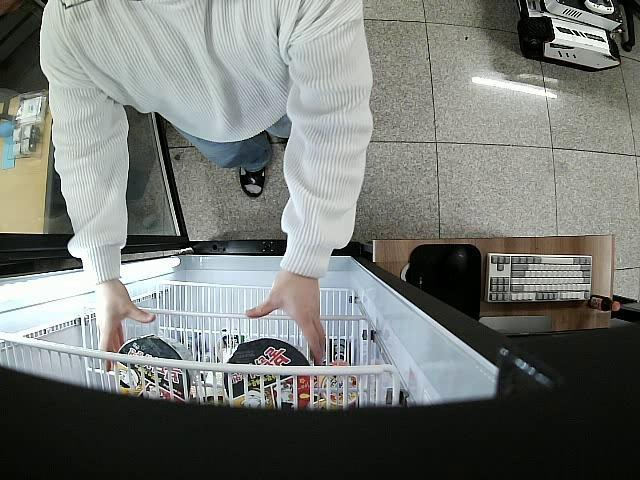07_buldak_L: (225, 340, 313, 410), (116, 336, 196, 406)
